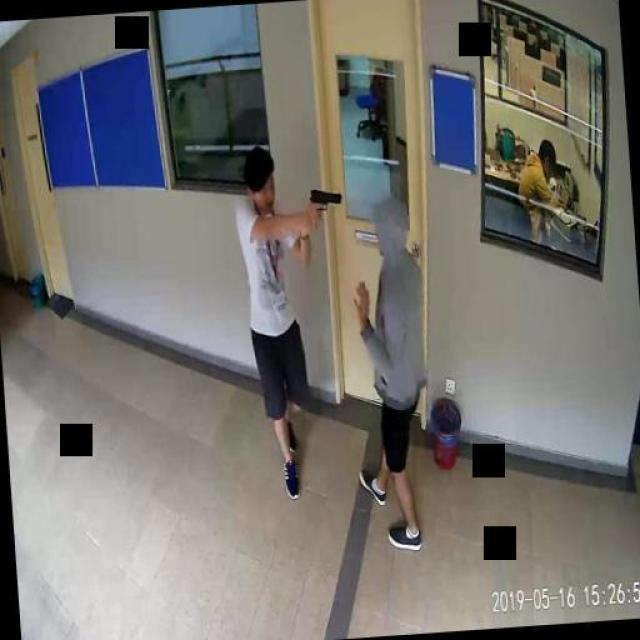gun: (308, 185, 342, 225)
